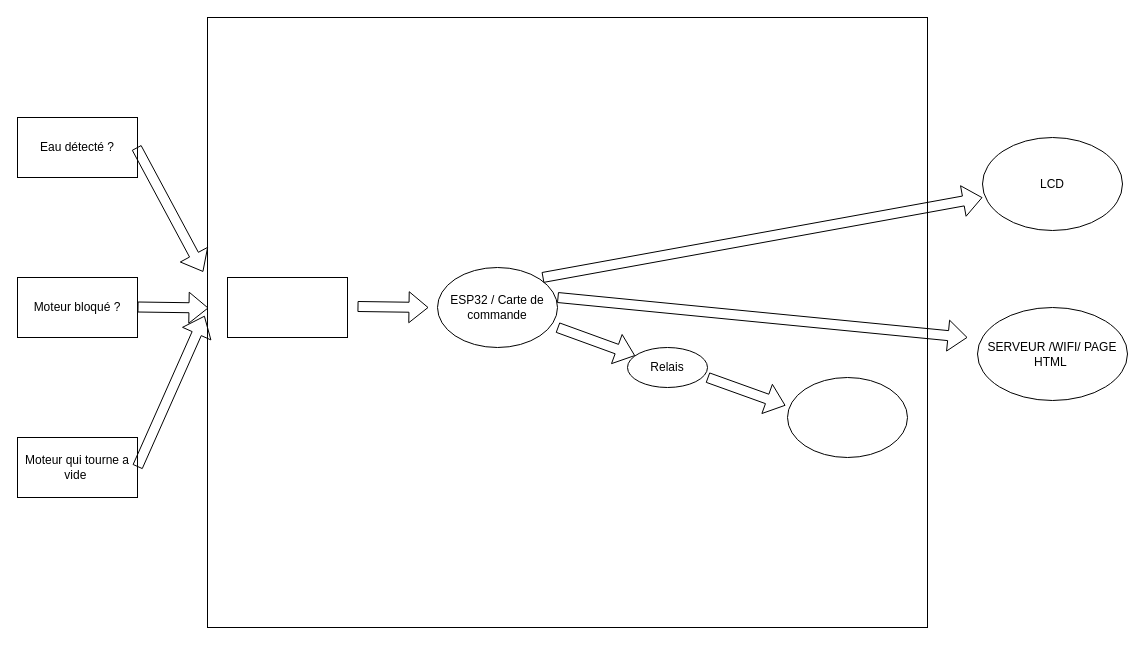
Some shapes in this 1145 by 645 pixel diagram are drawn without their labels. The centre of each missing label's shape, as x and y in pixels:
"Capteur de courant" belongs at (x=287, y=307).
"MOTEUR asynchrone 230V monophasé" belongs at (x=847, y=417).
